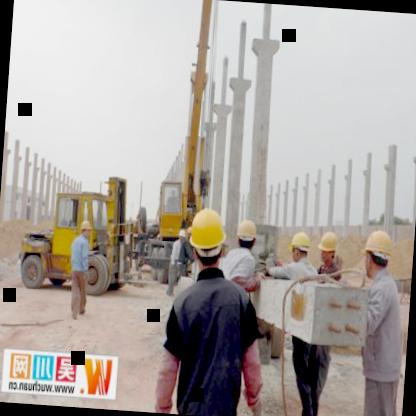helmet: (184, 201, 231, 271), (361, 228, 395, 282), (235, 215, 260, 255), (316, 230, 341, 267), (288, 230, 313, 266), (80, 219, 94, 240)
